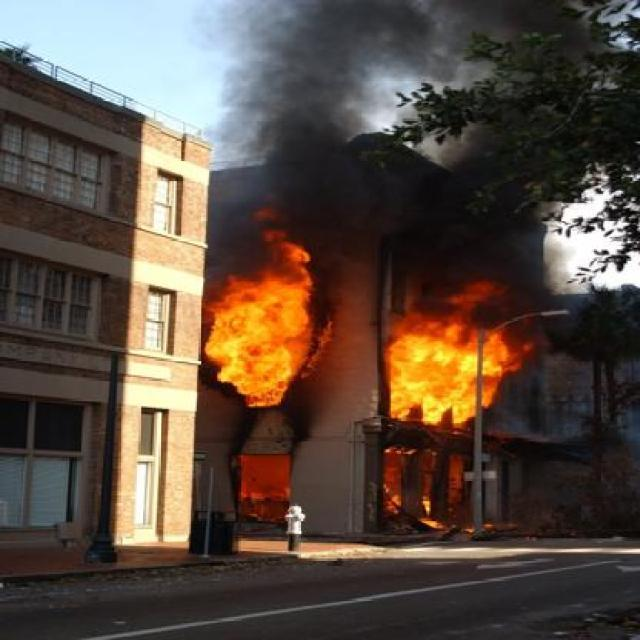Fire: (195, 194, 323, 418), (381, 272, 542, 434), (235, 443, 300, 537), (418, 444, 446, 540), (378, 447, 404, 520), (452, 450, 469, 528)
